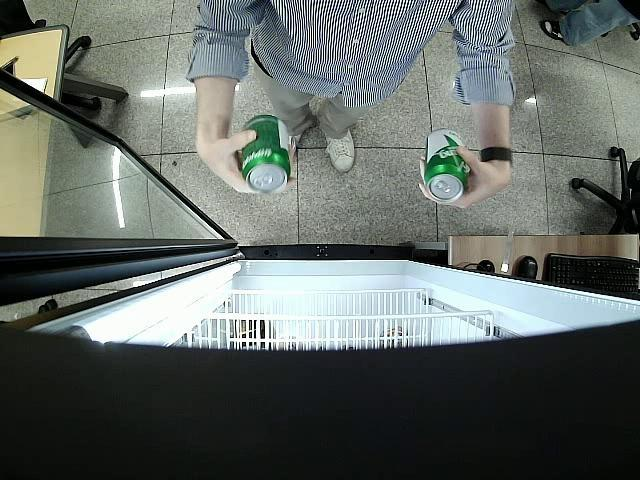12_chilsungCider: (236, 116, 290, 194), (421, 128, 467, 202)
